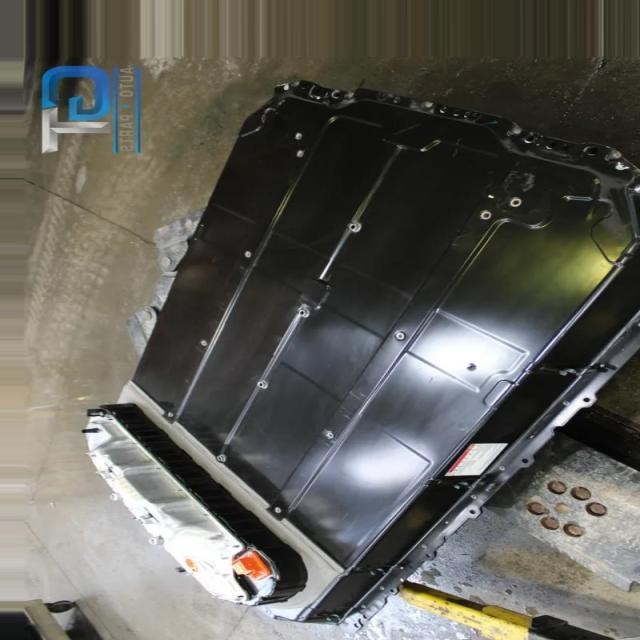Nut: (295, 308, 326, 327), (211, 451, 235, 470), (251, 378, 278, 394), (347, 224, 372, 236)
Screw: (472, 205, 502, 229), (233, 244, 262, 260), (390, 330, 414, 348), (509, 192, 531, 211), (269, 502, 287, 524), (320, 426, 343, 443), (291, 148, 314, 164), (192, 336, 214, 351), (155, 410, 180, 420), (292, 128, 307, 143)
